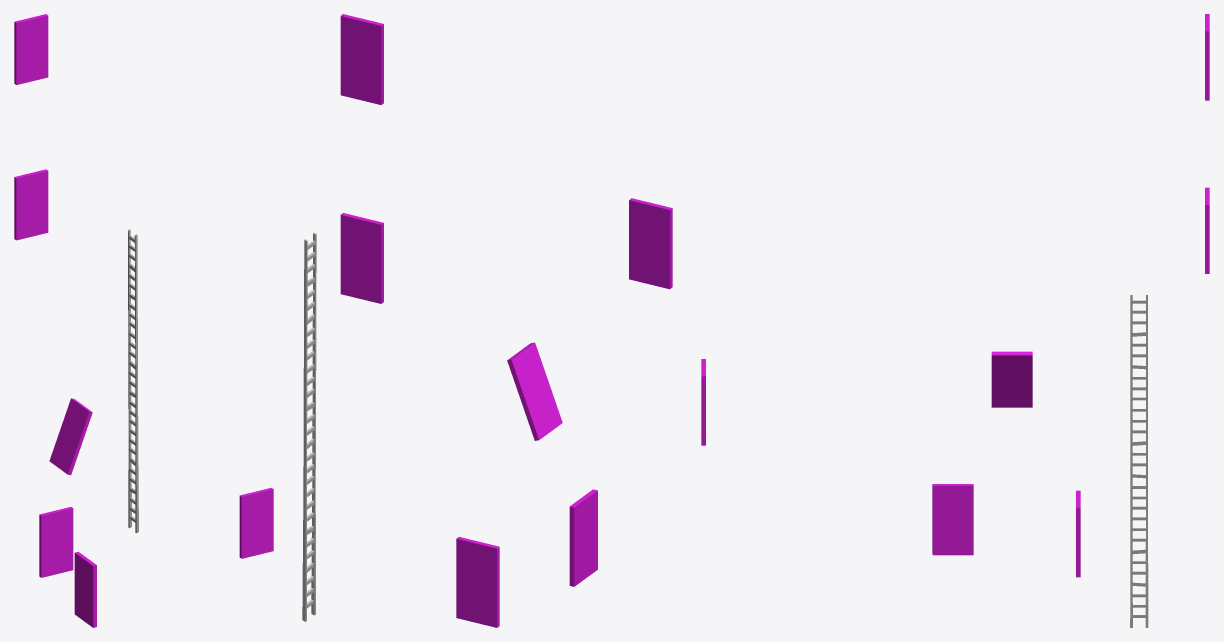
The model's file is PuertasYEscaleraTesting.fbx.
3 views of the same model, side by side, from view 1: azimuth 30°, elevation 25°; view 2: azimuth 150°, elevation 25°; view 3: azimuth 270°, elevation 25° (orthographic). The views are drawn at different scales.
Parts seen in each view (by area): view 1: Escalon_010, PuertaPrincipal.003, PuertaPrincipal.004, PuertaPrincipal.006, PuertaPrincipal.007, PuertaPrincipal.008, PuertaPrincipal.002; view 2: Escalon_010, PuertaPrincipal.003, PuertaPrincipal.004, PuertaPrincipal.006, PuertaPrincipal.007, PuertaPrincipal.008, PuertaPrincipal.002; view 3: Escalon_010, PuertaPrincipal.002, PuertaPrincipal.008.
Part boxes in pixels (bbox=[...]): Escalon_010: bbox=[128, 229, 138, 533]; PuertaPrincipal.003: bbox=[39, 507, 73, 577]; PuertaPrincipal.004: bbox=[239, 487, 273, 558]; PuertaPrincipal.006: bbox=[14, 169, 48, 240]; PuertaPrincipal.007: bbox=[14, 14, 48, 84]; PuertaPrincipal.008: bbox=[49, 398, 92, 475]; PuertaPrincipal.002: bbox=[74, 551, 96, 627]; Escalon_010: bbox=[302, 232, 316, 621]; PuertaPrincipal.003: bbox=[456, 537, 499, 627]; PuertaPrincipal.004: bbox=[629, 198, 672, 289]; PuertaPrincipal.006: bbox=[340, 213, 383, 303]; PuertaPrincipal.007: bbox=[340, 14, 383, 104]; PuertaPrincipal.008: bbox=[507, 342, 562, 440]; PuertaPrincipal.002: bbox=[569, 489, 597, 586]; Escalon_010: bbox=[1130, 295, 1148, 627]; PuertaPrincipal.002: bbox=[932, 484, 973, 555]; PuertaPrincipal.008: bbox=[991, 351, 1032, 407].
Size of the model in its own units: 846 by 3053 by 2484.
